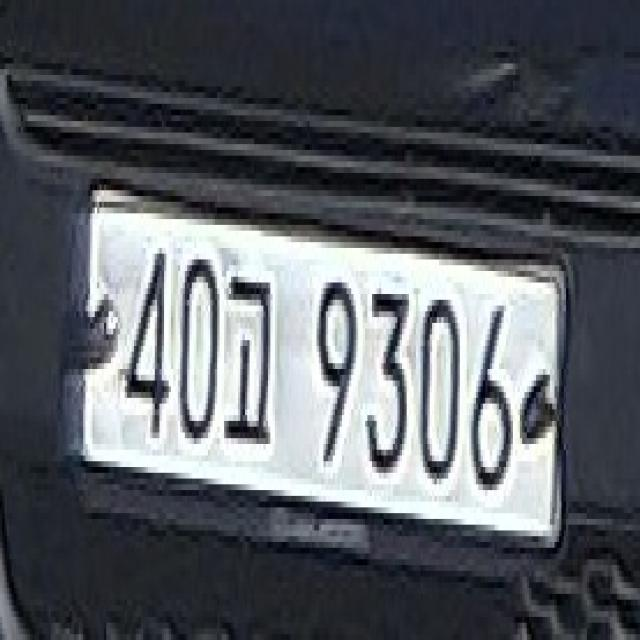0: (176, 248, 220, 450), (418, 288, 462, 490)
3: (362, 282, 413, 478)
4: (120, 248, 171, 432)
6: (472, 305, 516, 496)
9: (317, 271, 358, 473)
go: (222, 265, 275, 444)
license_plate: (79, 178, 570, 554)
